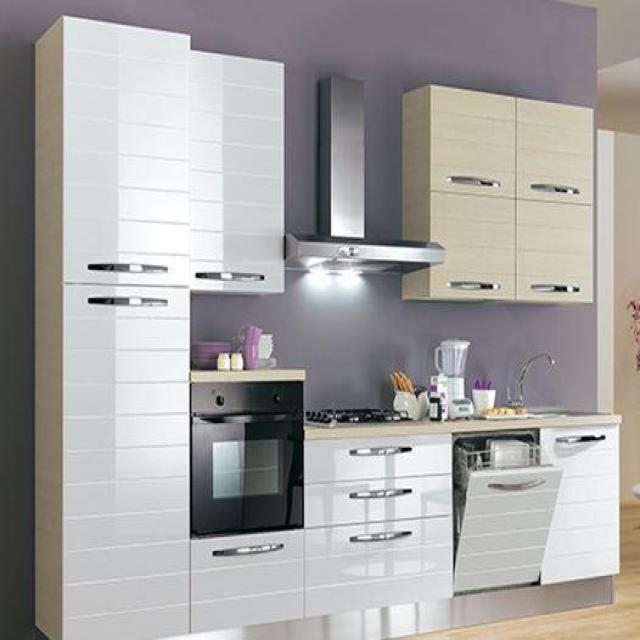dishwasher: (449, 431, 565, 598)
